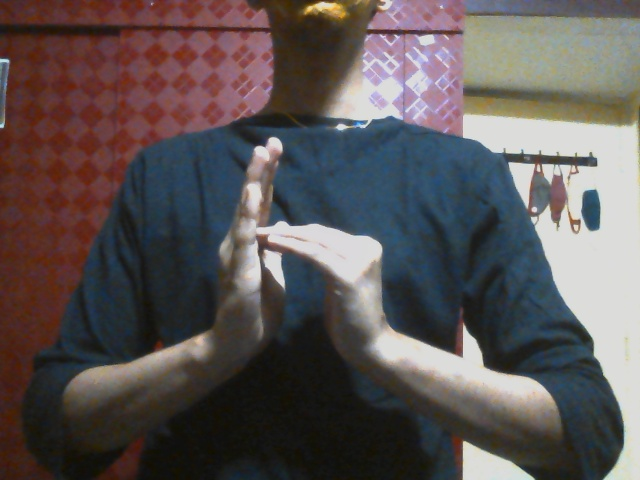Z: (196, 135, 401, 406)
